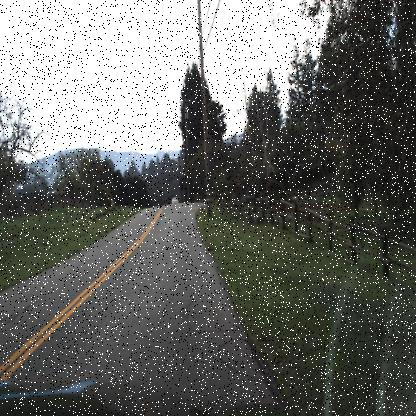car: (167, 194, 182, 210), (170, 195, 179, 207)
